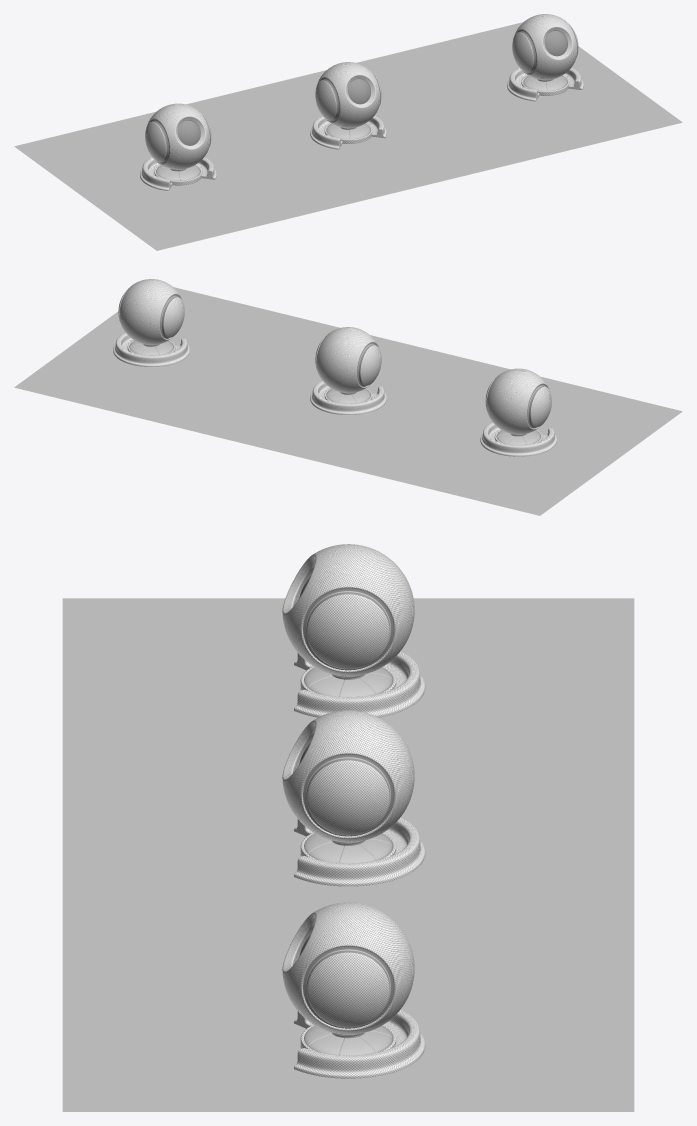
3 views of the same model, one above another, from view 1: azimuth 30°, elevation 25°; view 2: azimuth 150°, elevation 25°; view 3: azimuth 270°, elevation 25° (orthographic). The views are drawn at different scales.
Visible parts, largest first — view 1: Plane, MaterialSphere.002, MaterialSphere, MaterialSphere.001, MaterialBase.001, MaterialBase, MaterialBase.002, Cushion.001, Cushion.002, Cushion, GrayBackground.002, GrayBackground.001 (+1 smaller); view 2: Plane, MaterialSphere.002, MaterialSphere, MaterialSphere.001, MaterialBase.001, MaterialBase, MaterialBase.002, Cushion, Cushion.001, Cushion.002; view 3: Plane, MaterialSphere.002, MaterialSphere, MaterialSphere.001, MaterialBase, MaterialBase.001, MaterialBase.002, Cushion, Cushion.001, Cushion.002, GrayInlay, GrayInlay.001 (+1 smaller).
Part boxes in pixels (left/top/right/bottom): Plane: left=14, top=22, right=682, bottom=250; MaterialSphere.002: left=145, top=103, right=211, bottom=169; MaterialSphere: left=315, top=62, right=381, bottom=128; MaterialSphere.001: left=512, top=14, right=578, bottom=79; MaterialBase.001: left=507, top=67, right=583, bottom=101; MaterialBase: left=310, top=115, right=386, bottom=149; MaterialBase.002: left=140, top=157, right=216, bottom=190; Cushion.001: left=523, top=75, right=567, bottom=91; Cushion.002: left=156, top=165, right=200, bottom=180; Cushion: left=326, top=123, right=370, bottom=139; GrayBackground.002: left=177, top=120, right=200, bottom=145; GrayBackground.001: left=544, top=31, right=567, bottom=56; Plane: left=14, top=287, right=682, bottom=515; MaterialSphere.002: left=485, top=368, right=551, bottom=434; MaterialSphere: left=315, top=327, right=381, bottom=393; MaterialSphere.001: left=118, top=279, right=184, bottom=344; MaterialBase.001: left=113, top=332, right=189, bottom=366; MaterialBase: left=310, top=380, right=386, bottom=414; MaterialBase.002: left=480, top=422, right=556, bottom=456; Cushion: left=326, top=388, right=370, bottom=403; Cushion.001: left=129, top=340, right=173, bottom=355; Cushion.002: left=496, top=430, right=540, bottom=444; Plane: left=62, top=598, right=634, bottom=1111; MaterialSphere.002: left=282, top=544, right=414, bottom=676; MaterialSphere: left=282, top=710, right=414, bottom=842; MaterialSphere.001: left=282, top=902, right=414, bottom=1034; MaterialBase: left=294, top=817, right=425, bottom=886; MaterialBase.001: left=294, top=1009, right=425, bottom=1078; MaterialBase.002: left=294, top=651, right=425, bottom=717; Cushion: left=304, top=833, right=392, bottom=863; Cushion.001: left=304, top=1025, right=392, bottom=1055; Cushion.002: left=304, top=667, right=392, bottom=696; GrayInlay: left=303, top=754, right=393, bottom=836; GrayInlay.001: left=303, top=946, right=393, bottom=1028.
Bounding box in the file's own units: 4.25 × 0.5355 × 2.
